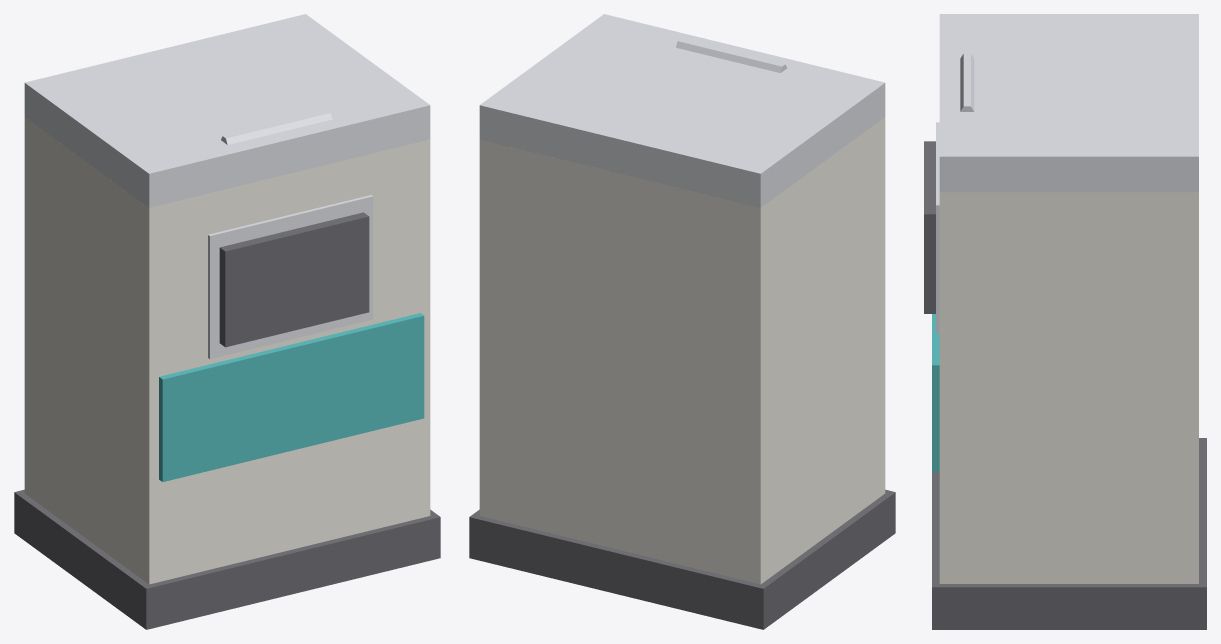
The model's file is retro-diner-and-roadside-motel-ice-machine-6da14c9f__37349.glb.
3 views of the same model, side by side, from view 1: azimuth 30°, elevation 25°; view 2: azimuth 150°, elevation 25°; view 3: azimuth 270°, elevation 25° (orthographic). The views are drawn at different scales.
Parts seen in each view (by area): view 1: ice-machine-cream, lid, ice-machine-asphalt, ice-machine-turquoise, ice-machine-chrome; view 2: ice-machine-cream, lid, ice-machine-asphalt; view 3: ice-machine-cream, lid, ice-machine-asphalt, ice-machine-turquoise, ice-machine-chrome.
Boxes of the visible parts, x1,y1,x2,y2 form: ice-machine-cream: [24, 117, 430, 584]; lid: [24, 14, 430, 207]; ice-machine-asphalt: [14, 212, 440, 629]; ice-machine-turquoise: [159, 313, 424, 481]; ice-machine-chrome: [208, 195, 373, 359]; ice-machine-cream: [479, 117, 885, 584]; lid: [479, 14, 885, 207]; ice-machine-asphalt: [469, 489, 895, 629]; ice-machine-cream: [939, 192, 1198, 583]; lid: [939, 14, 1198, 192]; ice-machine-asphalt: [924, 141, 1206, 629]; ice-machine-turquoise: [932, 314, 939, 472]; ice-machine-chrome: [936, 122, 939, 333].
Size of the model in its own units: 0.9001 by 1.34 by 0.72.
